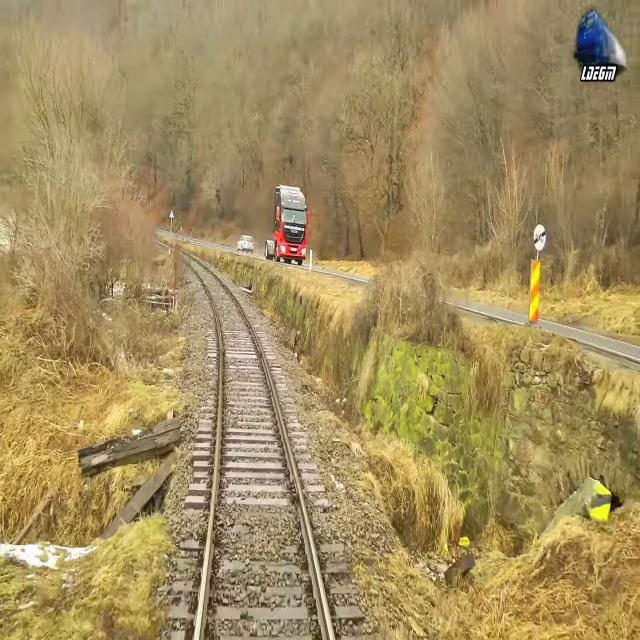rail-track: (155, 238, 330, 639)
